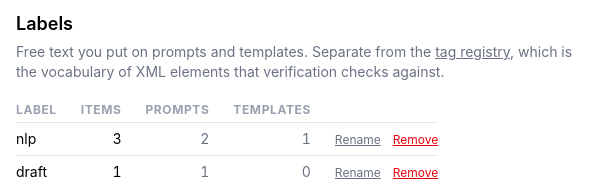
Labels › shows which artifacts carry a label
The image size is (589, 196).
Click the button "nlp": (26, 139) x1=16 y1=129 x2=36 y2=149
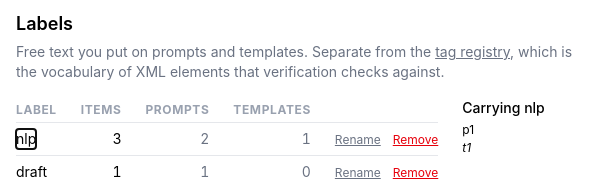
Result: the heading "Carrying nlp" is shown at x1=462 y1=99 x2=545 y2=116
